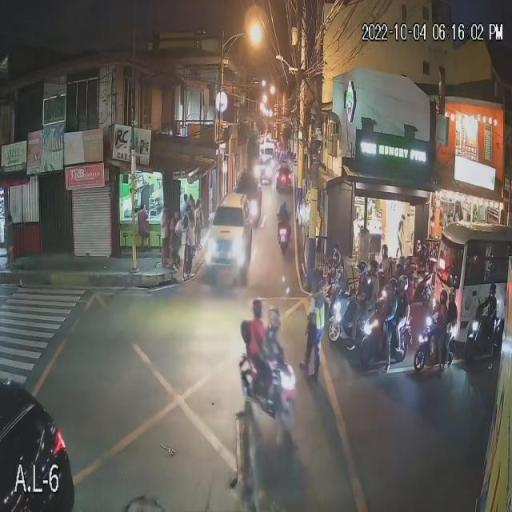helmet: (266, 309, 284, 332), (248, 298, 263, 322), (398, 275, 410, 294), (486, 282, 498, 300), (386, 278, 398, 294), (379, 242, 389, 260), (446, 287, 457, 303), (330, 255, 342, 268), (439, 289, 449, 303), (369, 262, 379, 275), (418, 244, 426, 260), (358, 260, 368, 270)
motorcycle: (238, 345, 298, 428), (394, 304, 442, 374), (458, 307, 504, 363), (358, 306, 400, 367), (324, 285, 360, 343), (404, 282, 436, 318), (404, 275, 437, 301), (276, 222, 290, 256)
rider: (240, 300, 269, 374), (260, 308, 288, 378), (367, 274, 398, 336), (339, 261, 369, 316), (474, 282, 502, 336), (386, 274, 412, 330), (431, 288, 452, 354), (446, 281, 460, 359), (367, 257, 384, 314), (408, 266, 430, 306), (414, 249, 430, 292), (376, 246, 392, 282), (276, 200, 290, 232)
